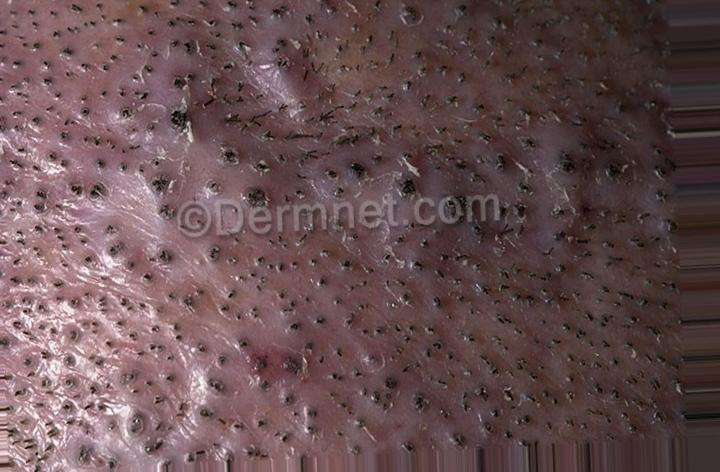Folliculitis: (204, 20, 369, 141)
